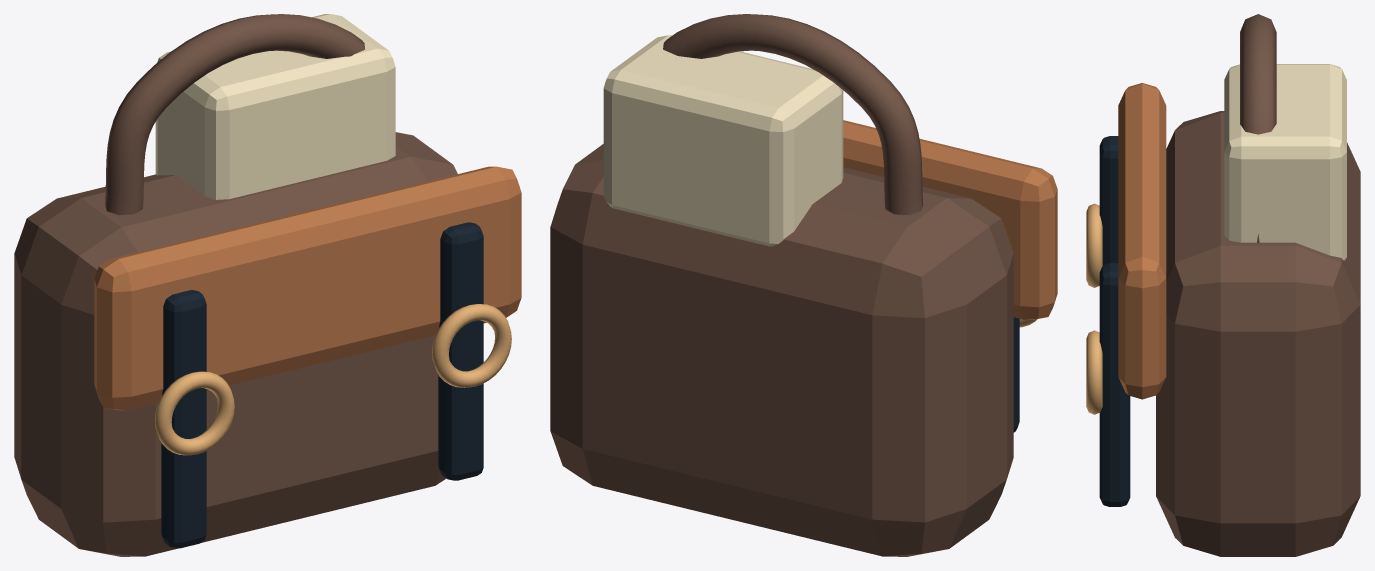
3 views of the same model, side by side, from view 1: azimuth 30°, elevation 25°; view 2: azimuth 150°, elevation 25°; view 3: azimuth 270°, elevation 25° (orthographic). The views are drawn at different scales.
Parts seen in each view (by area): view 1: PR005_bag, PR005_fold, PR005_notebook, PR005_handle, PR005_strap, PR005_strap.001, PR005_buckle.001, PR005_buckle; view 2: PR005_bag, PR005_notebook, PR005_fold, PR005_handle, PR005_strap; view 3: PR005_bag, PR005_notebook, PR005_fold, PR005_strap.001, PR005_handle, PR005_strap, PR005_buckle.001, PR005_buckle.
Part boxes in pixels (bbox=[...]): PR005_bag: bbox=[14, 132, 457, 556]; PR005_fold: bbox=[94, 166, 521, 410]; PR005_notebook: bbox=[155, 14, 395, 199]; PR005_handle: bbox=[105, 14, 365, 215]; PR005_strap: bbox=[161, 290, 206, 548]; PR005_strap.001: bbox=[438, 222, 483, 480]; PR005_buckle.001: bbox=[432, 304, 511, 387]; PR005_buckle: bbox=[155, 371, 234, 455]; PR005_bag: bbox=[550, 144, 1013, 556]; PR005_notebook: bbox=[603, 35, 843, 246]; PR005_fold: bbox=[843, 120, 1057, 319]; PR005_handle: bbox=[663, 14, 923, 214]; PR005_strap: bbox=[1013, 317, 1019, 432]; PR005_bag: bbox=[1156, 111, 1360, 556]; PR005_notebook: bbox=[1224, 64, 1346, 260]; PR005_fold: bbox=[1118, 83, 1166, 399]; PR005_strap.001: bbox=[1099, 263, 1130, 506]; PR005_handle: bbox=[1240, 14, 1276, 242]; PR005_strap: bbox=[1099, 136, 1118, 265]; PR005_buckle.001: bbox=[1086, 330, 1102, 414]; PR005_buckle: bbox=[1086, 203, 1102, 287].
Size of the model in its own units: 0.67 by 0.7411 by 0.402.
